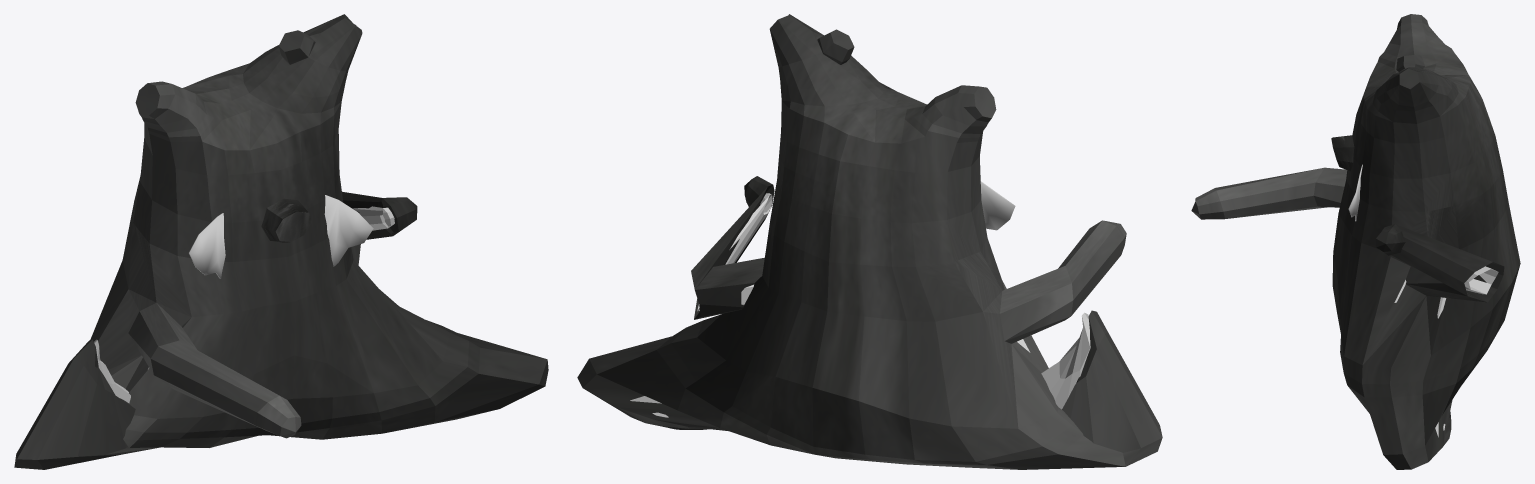
File: frame_0005.obj
3 renders of one model, left to right at view 1: azimuth 30°, elevation 25°; view 2: azimuth 150°, elevation 25°; view 3: azimuth 270°, elevation 25°, orthographic. The views are drawn at different scales.
Visible parts, largest first — view 1: korok, leaf, nose; view 2: korok, leaf; view 3: korok, nose.
Boxes of the visible parts, left/top/right/bottom form: korok: left=14, top=14, right=548, bottom=469; leaf: left=188, top=195, right=373, bottom=278; nose: left=261, top=198, right=311, bottom=242; korok: left=577, top=14, right=1162, bottom=469; leaf: left=980, top=181, right=1015, bottom=230; korok: left=1191, top=14, right=1520, bottom=469; nose: left=1331, top=135, right=1354, bottom=171.
Size of the model in its own units: 3.11 by 2.24 by 2.02.
